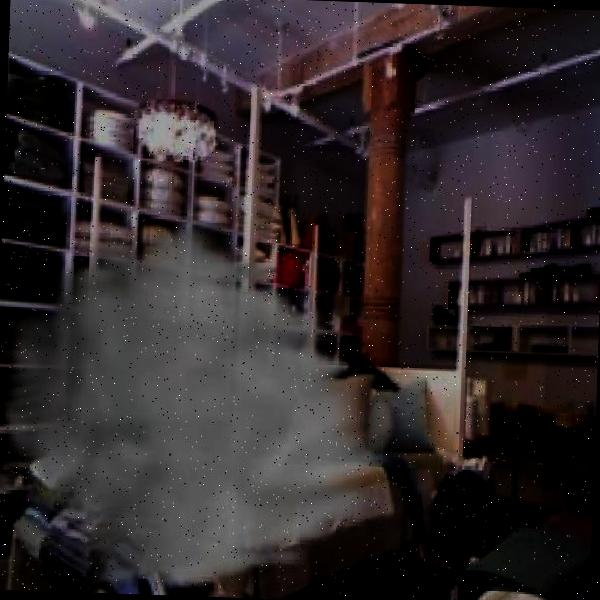smoke: (0, 191, 417, 598)
